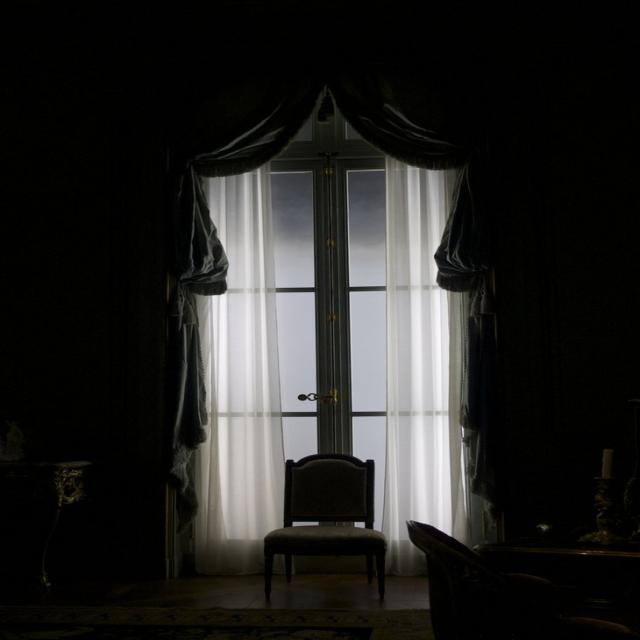Table: (0, 407, 143, 592), (542, 483, 640, 640)
chair: (262, 428, 406, 602), (406, 512, 509, 627)
